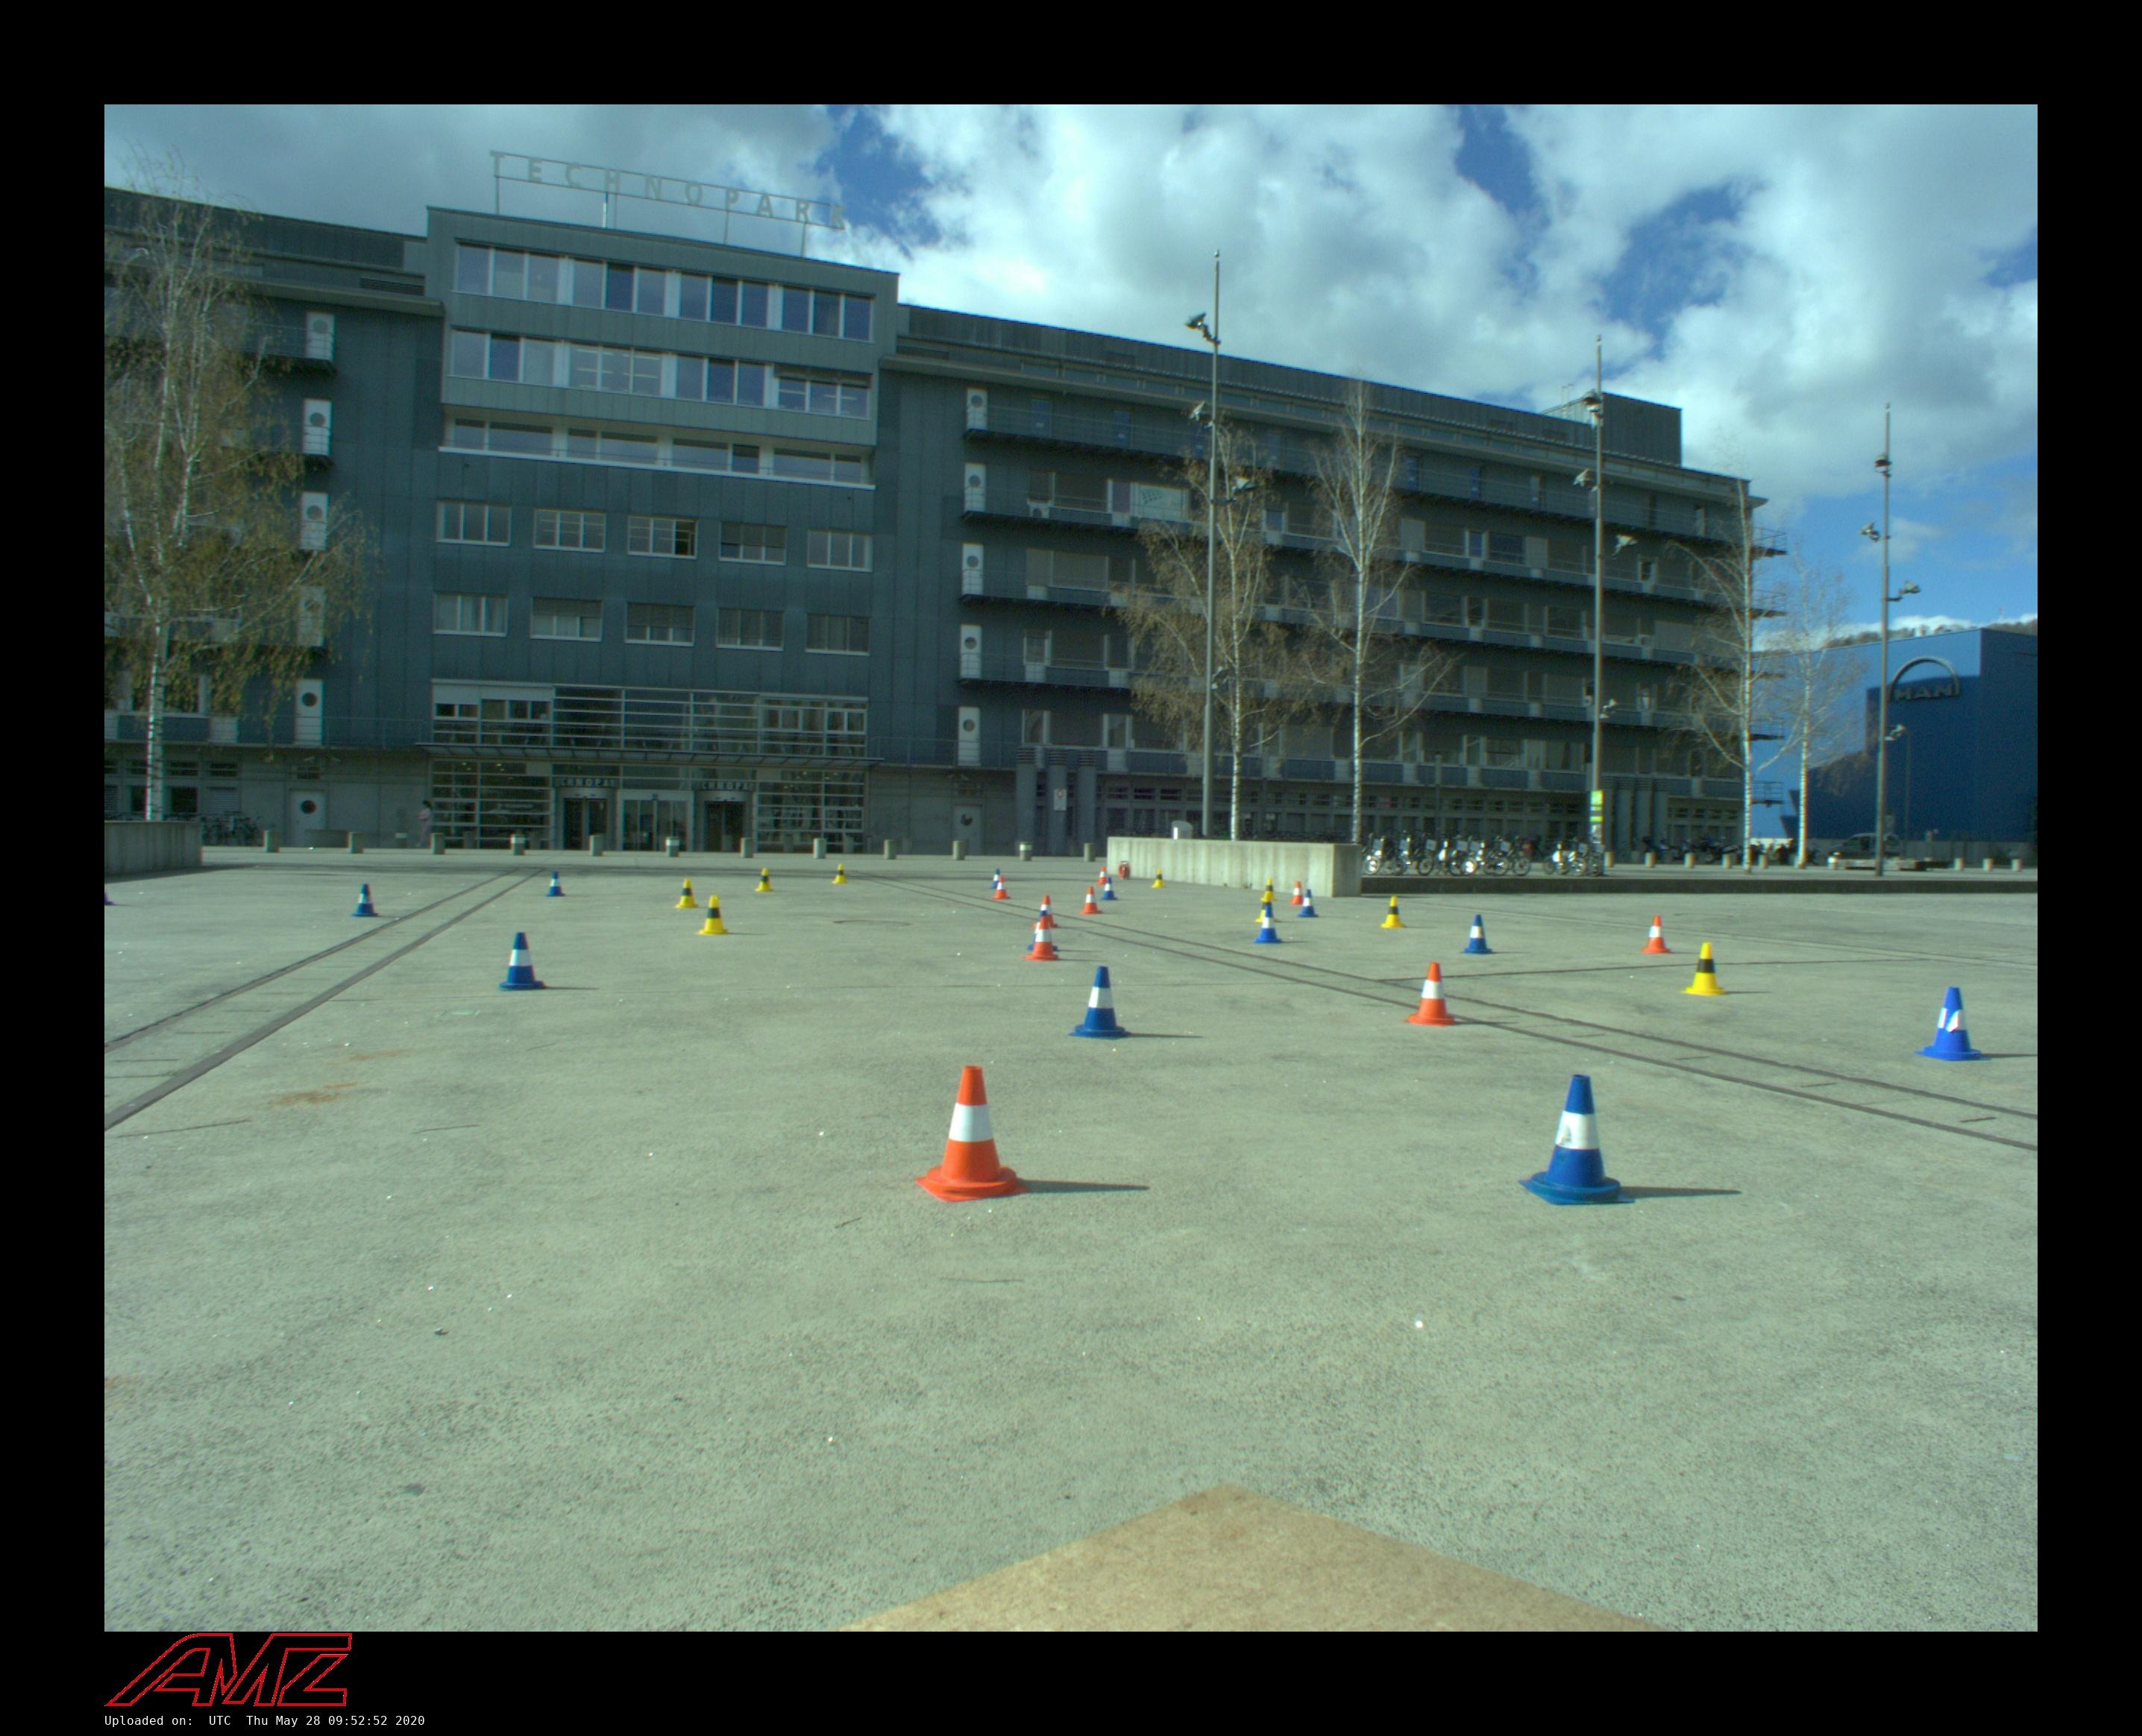blue_cone: (1517, 1072, 1634, 1206), (1915, 985, 1990, 1061), (1068, 964, 1132, 1040), (500, 932, 546, 990), (1463, 914, 1494, 953), (1254, 905, 1281, 944), (353, 884, 379, 916), (1297, 889, 1320, 918), (546, 872, 567, 896), (1100, 877, 1118, 900), (989, 868, 1001, 889)
orange_cone: (912, 1065, 1029, 1203), (1405, 962, 1462, 1027), (1022, 916, 1059, 962), (1642, 914, 1674, 953), (1031, 895, 1059, 928), (1081, 886, 1102, 914), (1288, 880, 1304, 905), (1097, 866, 1107, 884)
yellow_cone: (1680, 942, 1727, 996), (696, 895, 728, 935), (1380, 896, 1405, 928), (675, 879, 698, 909), (1254, 893, 1277, 921), (755, 868, 774, 891), (1260, 877, 1277, 902), (834, 864, 849, 884), (1152, 868, 1166, 887)
